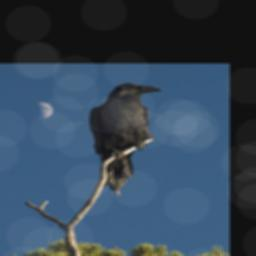Crow: (88, 83, 164, 198)
